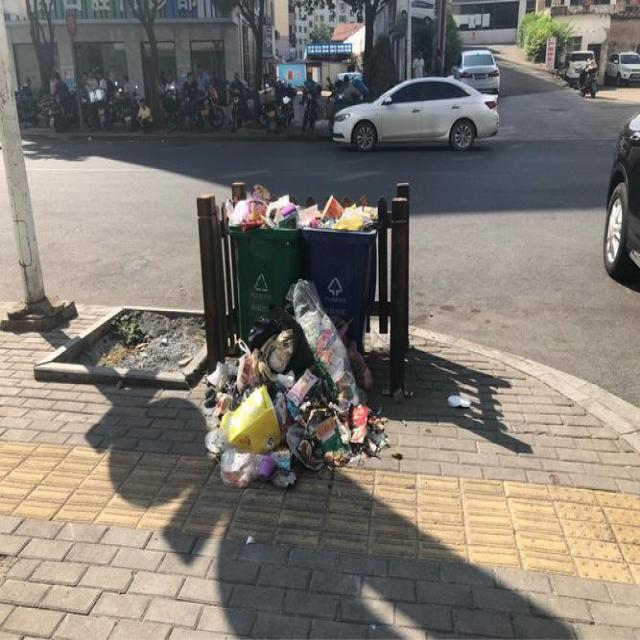garbage: (204, 279, 388, 485)
overflow: (300, 195, 376, 352), (228, 184, 296, 340)
